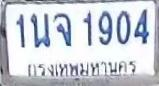0: (116, 10, 130, 44)
1: (82, 11, 92, 46), (15, 14, 24, 48)
4: (133, 8, 148, 43)
9: (98, 10, 112, 45)
A08: (53, 12, 72, 46)
A25: (30, 12, 50, 47)
BKK: (24, 56, 139, 79)
